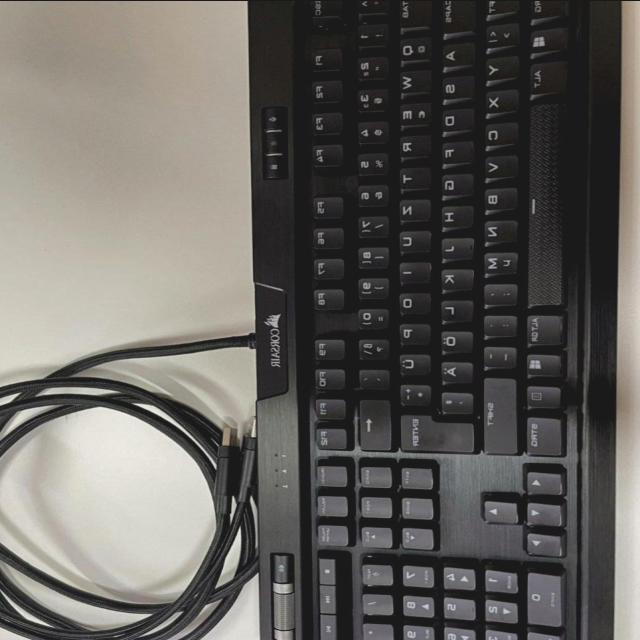0: (353, 305, 388, 329)
1: (354, 21, 388, 45)
2: (354, 53, 388, 79)
3: (353, 86, 389, 111)
4: (354, 119, 388, 143)
5: (354, 149, 389, 175)
6: (354, 182, 388, 206)
7: (355, 213, 388, 237)
8: (355, 244, 389, 268)
9: (354, 274, 388, 298)
a: (439, 40, 475, 66)
accent: (356, 366, 389, 388)
ae: (436, 359, 472, 383)
alt-left: (525, 59, 564, 96)
altgr-right: (523, 312, 561, 345)
b: (480, 185, 516, 211)
c: (481, 120, 517, 147)
caret: (354, 0, 388, 13)
comma: (480, 281, 515, 304)
d: (438, 106, 474, 132)
del: (355, 397, 390, 449)
e: (395, 100, 430, 126)
enter: (395, 411, 473, 451)
f: (438, 139, 473, 164)
g: (438, 171, 472, 196)
h: (438, 203, 473, 228)
hash: (437, 389, 471, 412)
i: (396, 259, 429, 283)
j: (437, 235, 472, 259)
k: (437, 267, 472, 291)
keyboard: (247, 0, 621, 640)
l: (437, 298, 472, 322)
less: (482, 21, 519, 48)
m: (480, 249, 516, 275)
minus: (481, 343, 515, 367)
n: (481, 218, 516, 243)
o: (395, 290, 429, 314)
oe: (436, 328, 472, 352)
p: (396, 320, 430, 344)
plus: (396, 382, 430, 405)
point: (480, 312, 515, 336)
q: (395, 34, 431, 61)
r: (395, 132, 430, 157)
s: (438, 73, 474, 99)
shift-left: (482, 0, 519, 15)
shift-lock: (438, 0, 475, 33)
shift-right: (480, 375, 515, 453)
space: (525, 99, 565, 307)
ss: (355, 336, 389, 359)
strg-left: (525, 0, 565, 20)
strg-right: (523, 414, 561, 456)
t: (396, 165, 430, 189)
tab: (395, 0, 432, 28)
u: (396, 228, 430, 252)
ue: (395, 351, 430, 374)
v: (481, 153, 517, 177)
w: (396, 67, 432, 94)
x: (482, 87, 519, 114)
y: (482, 54, 519, 80)
z: (395, 196, 429, 220)
